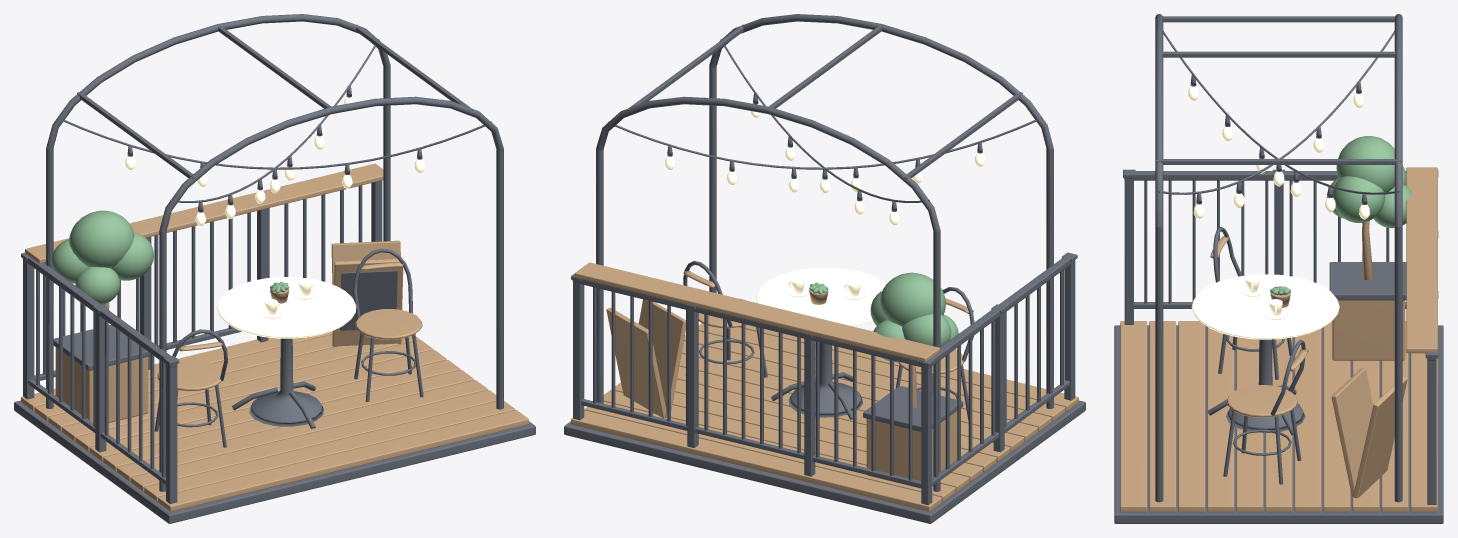
Rendered from seoul-rooftop-cafe-terrace.glb.
The picture shows the model from 3 angles, left to right: view 1: azimuth 30°, elevation 25°; view 2: azimuth 150°, elevation 25°; view 3: azimuth 270°, elevation 25°; orthographic projection. The views are drawn at different scales.
Parts seen in each view (by area): view 1: seoul-rooftop-cafe-terrace__Cafe_Matte_Iron, seoul-rooftop-cafe-terrace__Cafe_Cedar_Wood, seoul-rooftop-cafe-terrace__Cafe_Terrazzo_WarmCream, seoul-rooftop-cafe-terrace__Cafe_Botanical_Sage; view 2: seoul-rooftop-cafe-terrace__Cafe_Matte_Iron, seoul-rooftop-cafe-terrace__Cafe_Cedar_Wood, seoul-rooftop-cafe-terrace__Cafe_Terrazzo_WarmCream, seoul-rooftop-cafe-terrace__Cafe_Botanical_Sage; view 3: seoul-rooftop-cafe-terrace__Cafe_Cedar_Wood, seoul-rooftop-cafe-terrace__Cafe_Matte_Iron, seoul-rooftop-cafe-terrace__Cafe_Terrazzo_WarmCream, seoul-rooftop-cafe-terrace__Cafe_Botanical_Sage.
Part boxes in pixels (bbox=[...]): seoul-rooftop-cafe-terrace__Cafe_Matte_Iron: bbox=[14, 14, 535, 523]; seoul-rooftop-cafe-terrace__Cafe_Cedar_Wood: bbox=[21, 163, 528, 511]; seoul-rooftop-cafe-terrace__Cafe_Terrazzo_WarmCream: bbox=[125, 97, 424, 338]; seoul-rooftop-cafe-terrace__Cafe_Botanical_Sage: bbox=[51, 210, 289, 304]; seoul-rooftop-cafe-terrace__Cafe_Matte_Iron: bbox=[564, 14, 1085, 523]; seoul-rooftop-cafe-terrace__Cafe_Cedar_Wood: bbox=[571, 262, 1078, 511]; seoul-rooftop-cafe-terrace__Cafe_Terrazzo_WarmCream: bbox=[664, 104, 985, 326]; seoul-rooftop-cafe-terrace__Cafe_Botanical_Sage: bbox=[809, 272, 958, 362]; seoul-rooftop-cafe-terrace__Cafe_Cedar_Wood: bbox=[1120, 167, 1437, 512]; seoul-rooftop-cafe-terrace__Cafe_Matte_Iron: bbox=[1114, 14, 1443, 523]; seoul-rooftop-cafe-terrace__Cafe_Terrazzo_WarmCream: bbox=[1188, 86, 1369, 339]; seoul-rooftop-cafe-terrace__Cafe_Botanical_Sage: bbox=[1270, 136, 1411, 295].
Size of the model in its own units: 2.7 by 2.51 by 1.98.
